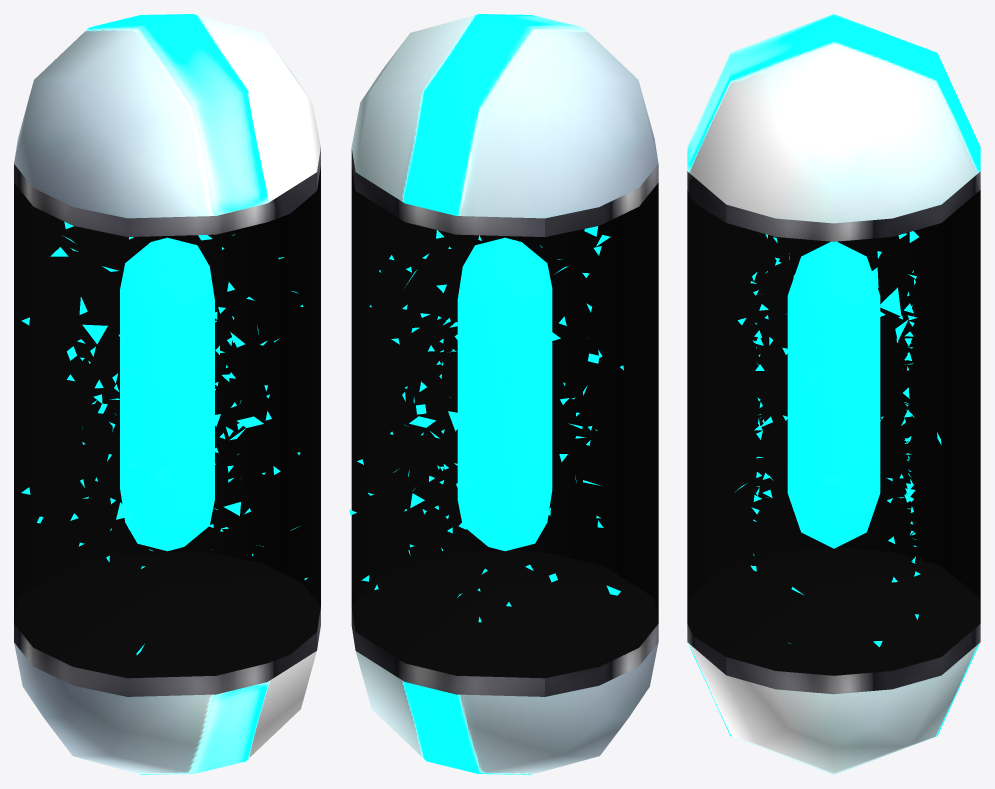
File: obj_pill.gltf
The picture shows the model from 3 angles, left to right: view 1: azimuth 30°, elevation 25°; view 2: azimuth 150°, elevation 25°; view 3: azimuth 270°, elevation 25°; orthographic projection.
Parts seen in each view (by area): view 1: obj_pill; view 2: obj_pill; view 3: obj_pill.
Part boxes in pixels (<box>): obj_pill: <box>14,14,320,774</box>; obj_pill: <box>349,14,658,774</box>; obj_pill: <box>687,14,980,774</box>.
Size of what is drawn, in the model's own units: 0.1504 by 0.4011 by 0.1446.
2 materials, 1 textured.
